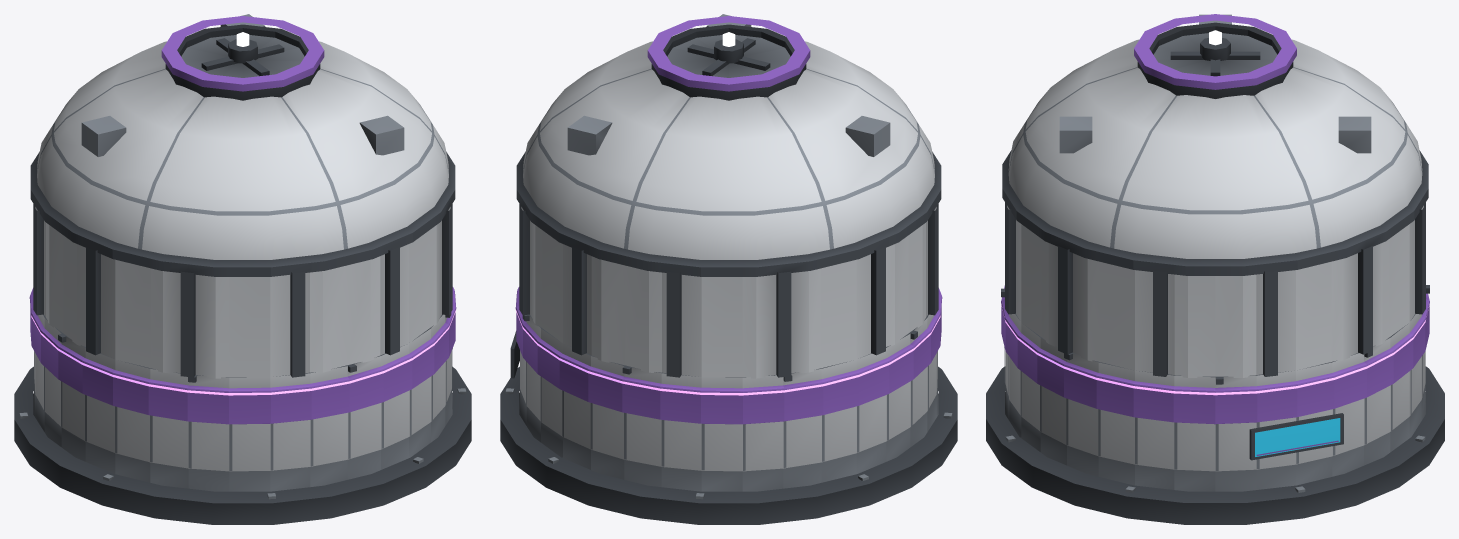
The model's file is junction.glb.
3 renders of one model, left to right at view 1: azimuth 30°, elevation 25°; view 2: azimuth 150°, elevation 25°; view 3: azimuth 270°, elevation 25°, orthographic.
Parts seen in each view (by area): view 1: Roof, Base, Wall_21, Wall_20, Upper_20, Wall_22, Upper_21, Wall_19, Upper_22, Wall_23, Upper_19, Upper_23 (+19 smaller); view 2: Roof, Base, Wall_10, Wall_11, Upper_11, Wall_09, Upper_10, Wall_12, Upper_09, Wall_08, Wall_13, Upper_12 (+19 smaller); view 3: Roof, Base, Wall_31, Upper_00, Upper_31, Wall_00, Wall_30, Upper_01, Upper_30, Wall_29, Upper_03, Upper_28 (+21 smaller).
Part boxes in pixels (box(x1,y1,x2,y2)): Roof: box(30, 14, 455, 267); Base: box(14, 366, 471, 524); Wall_21: box(229, 377, 270, 491); Wall_20: box(187, 375, 229, 491); Upper_20: box(187, 264, 229, 378); Wall_22: box(270, 372, 311, 491); Upper_21: box(229, 267, 270, 377); Wall_19: box(148, 368, 188, 488); Upper_22: box(270, 263, 311, 377); Wall_23: box(310, 365, 349, 486); Upper_19: box(149, 258, 187, 376); Upper_23: box(310, 255, 349, 372); Roof: box(516, 14, 941, 267); Base: box(500, 366, 957, 524); Wall_10: box(701, 377, 742, 491); Wall_11: box(742, 375, 784, 491); Upper_11: box(742, 264, 784, 378); Wall_09: box(660, 372, 701, 491); Upper_10: box(701, 267, 742, 377); Wall_12: box(783, 368, 823, 488); Upper_09: box(660, 263, 701, 377); Wall_08: box(622, 365, 661, 486); Wall_13: box(821, 359, 858, 482); Upper_12: box(784, 258, 822, 376); Roof: box(1002, 14, 1428, 266); Base: box(986, 366, 1444, 524); Wall_31: box(1173, 375, 1215, 491); Upper_00: box(1215, 265, 1257, 377); Upper_31: box(1173, 265, 1215, 377); Wall_00: box(1215, 375, 1257, 491); Wall_30: box(1133, 370, 1174, 489); Upper_01: box(1256, 260, 1297, 376); Upper_30: box(1133, 260, 1174, 376); Wall_29: box(1096, 362, 1134, 485); Upper_03: box(1331, 240, 1368, 361); Upper_28: box(1062, 240, 1099, 361).
Bounding box in the file's own units: 4.76 × 4.55 × 4.76.
